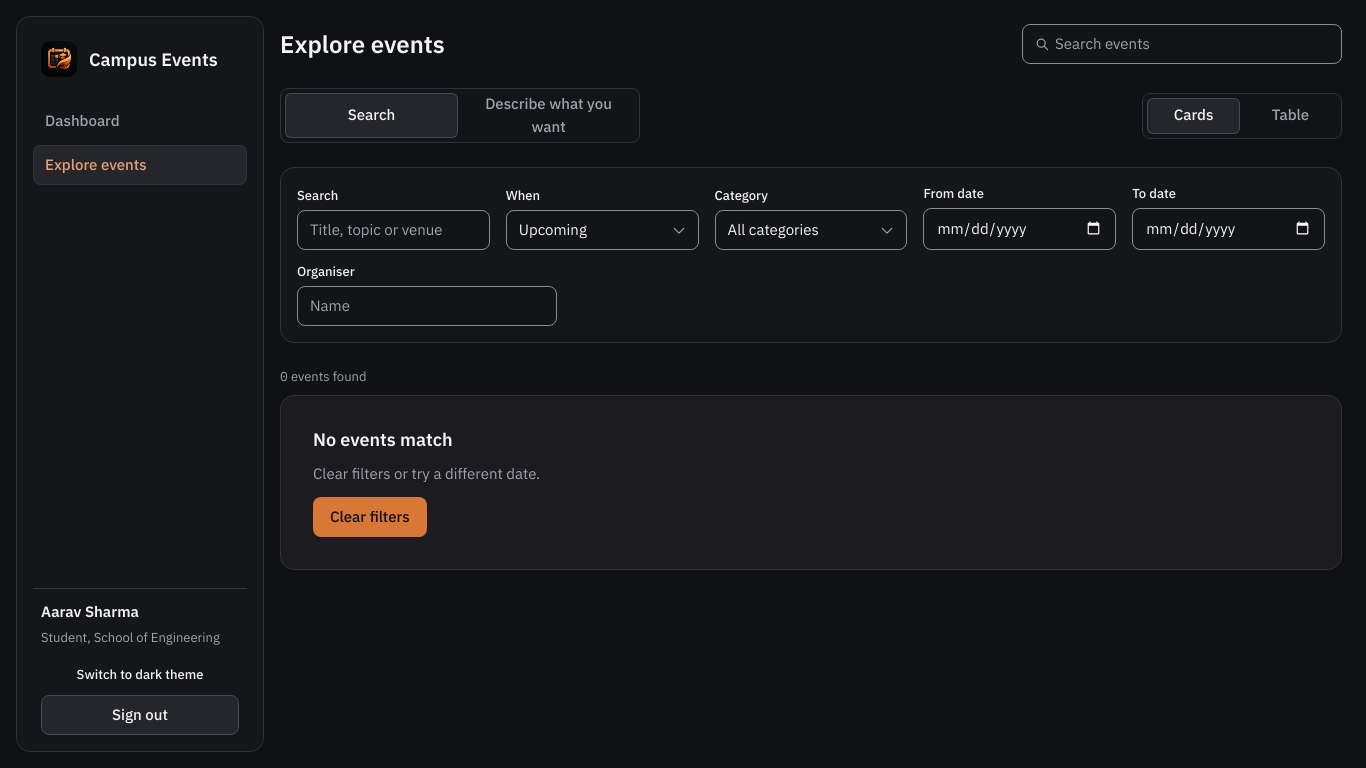
explore with AI search › applies what the AI understood to the URL filters and says where it came from
This screenshot has width=1366, height=768.
Click the tab "Describe what you want". click: (548,116)
box: top-left (462, 93), bottom-right (635, 138)
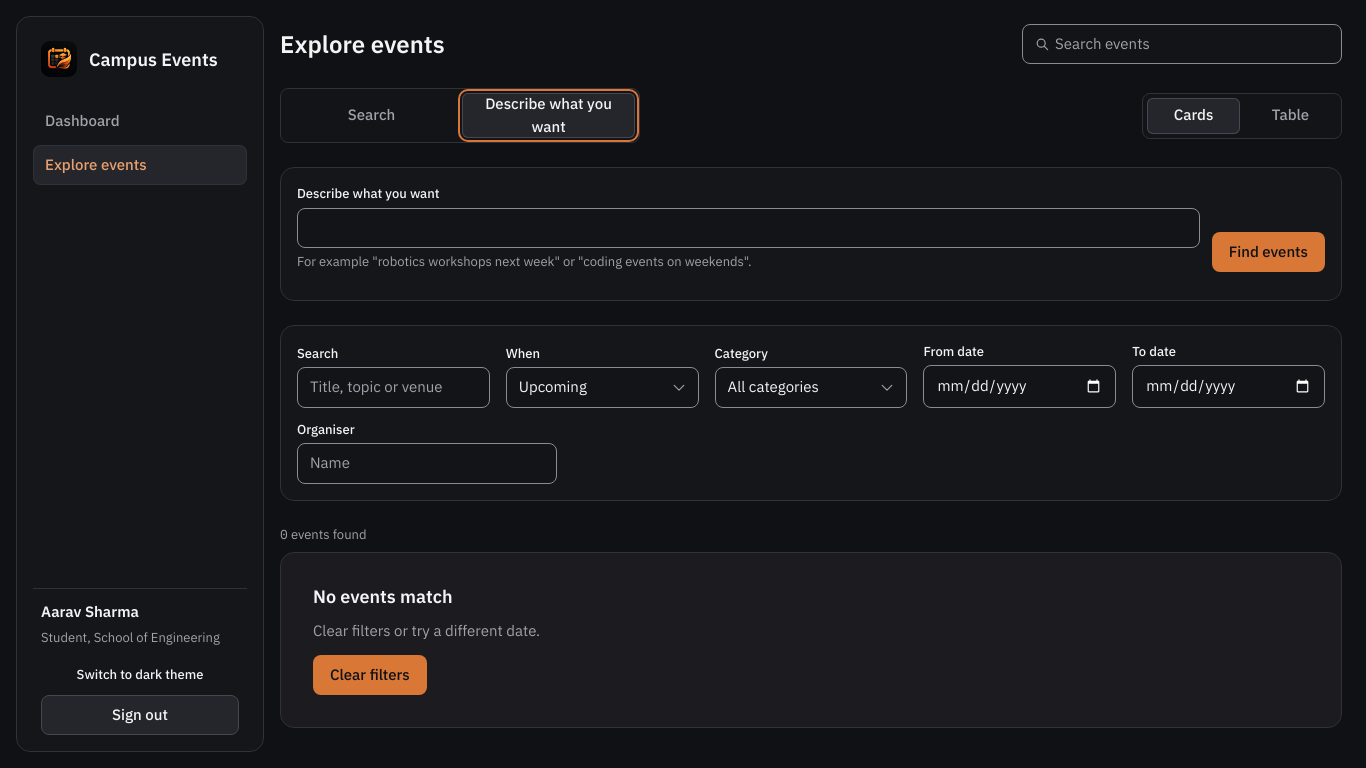
Type "robotics workshops next week" into the field labelled "Describe what you want". click: (748,228)
box: top-left (297, 208), bottom-right (1200, 248)
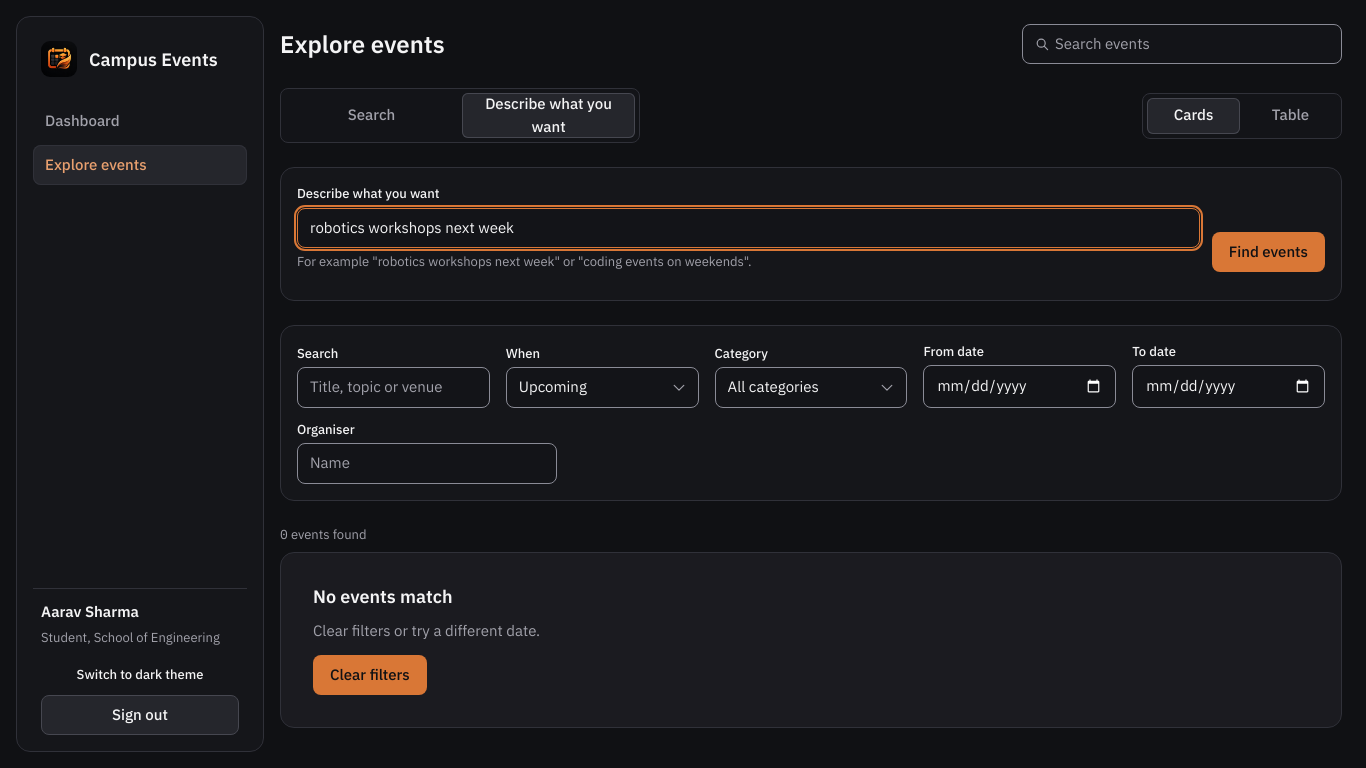
Click the button "Find events". click: (1268,252)
box: top-left (1212, 232), bottom-right (1325, 272)
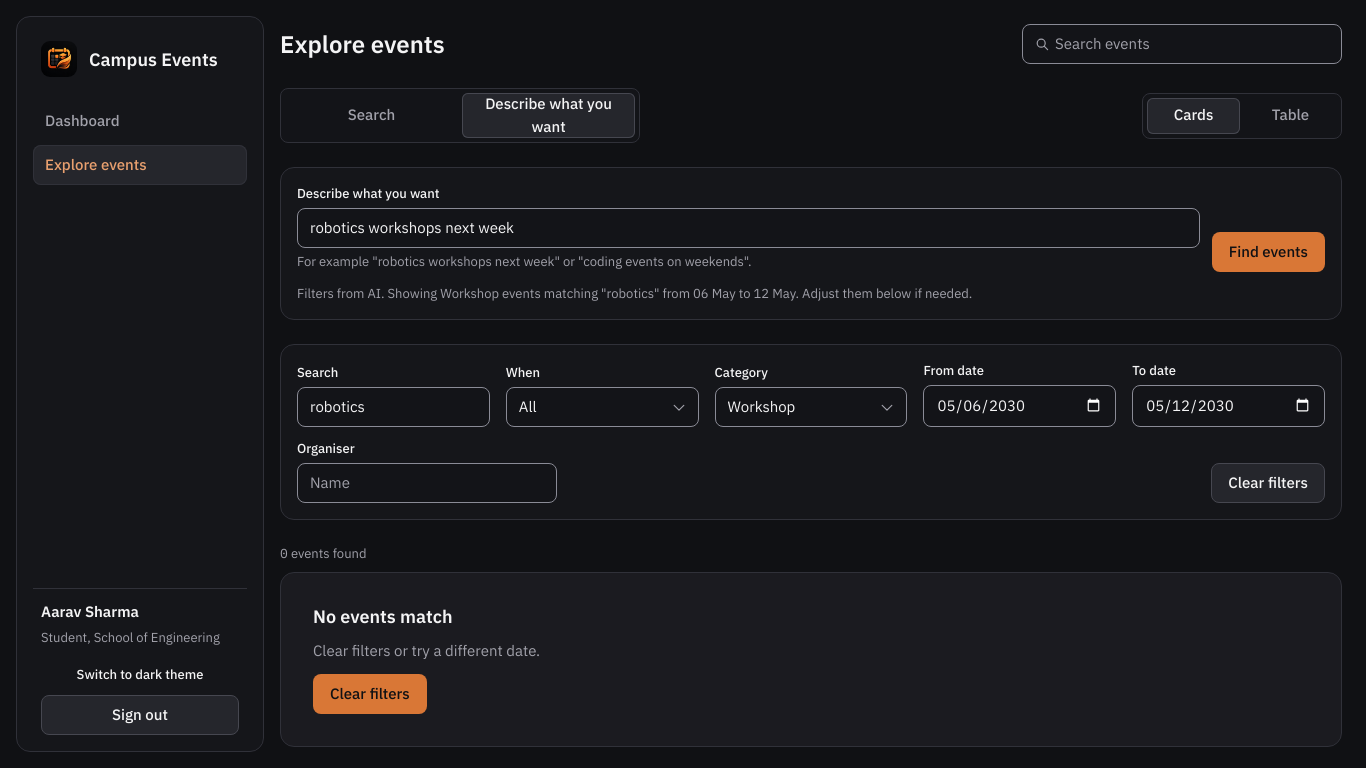
Expected: the text "Filters from AI" is shown, top-left (297, 284), bottom-right (972, 302)
